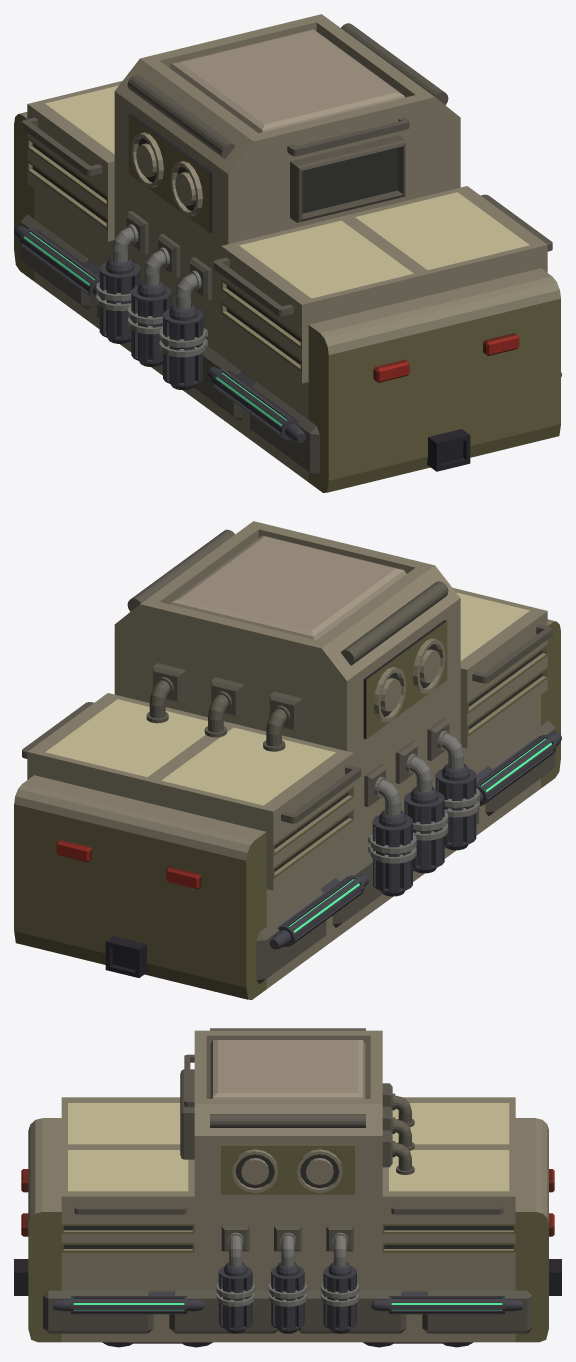
Rendered from mesh_scr_0.fbx.
3 renders of one model, top to bottom at view 1: azimuth 30°, elevation 25°; view 2: azimuth 150°, elevation 25°; view 3: azimuth 270°, elevation 25°, orthographic. The views are drawn at different scales.
Parts seen in each view (by area): view 1: scr_0_base, scr_0_top; view 2: scr_0_base, scr_0_top; view 3: scr_0_base, scr_0_top.
Boxes of the visible parts, x1=… form: scr_0_base: x1=14, y1=14, x2=561, y2=492; scr_0_top: x1=169, y1=29, x2=404, y2=132; scr_0_base: x1=14, y1=521, x2=561, y2=999; scr_0_top: x1=170, y1=535, x2=406, y2=640; scr_0_base: x1=14, y1=1028, x2=561, y2=1347; scr_0_top: x1=210, y1=1040, x2=365, y2=1098.
Bounding box in the file's own units: 4.6 × 4.16 × 8.39.
